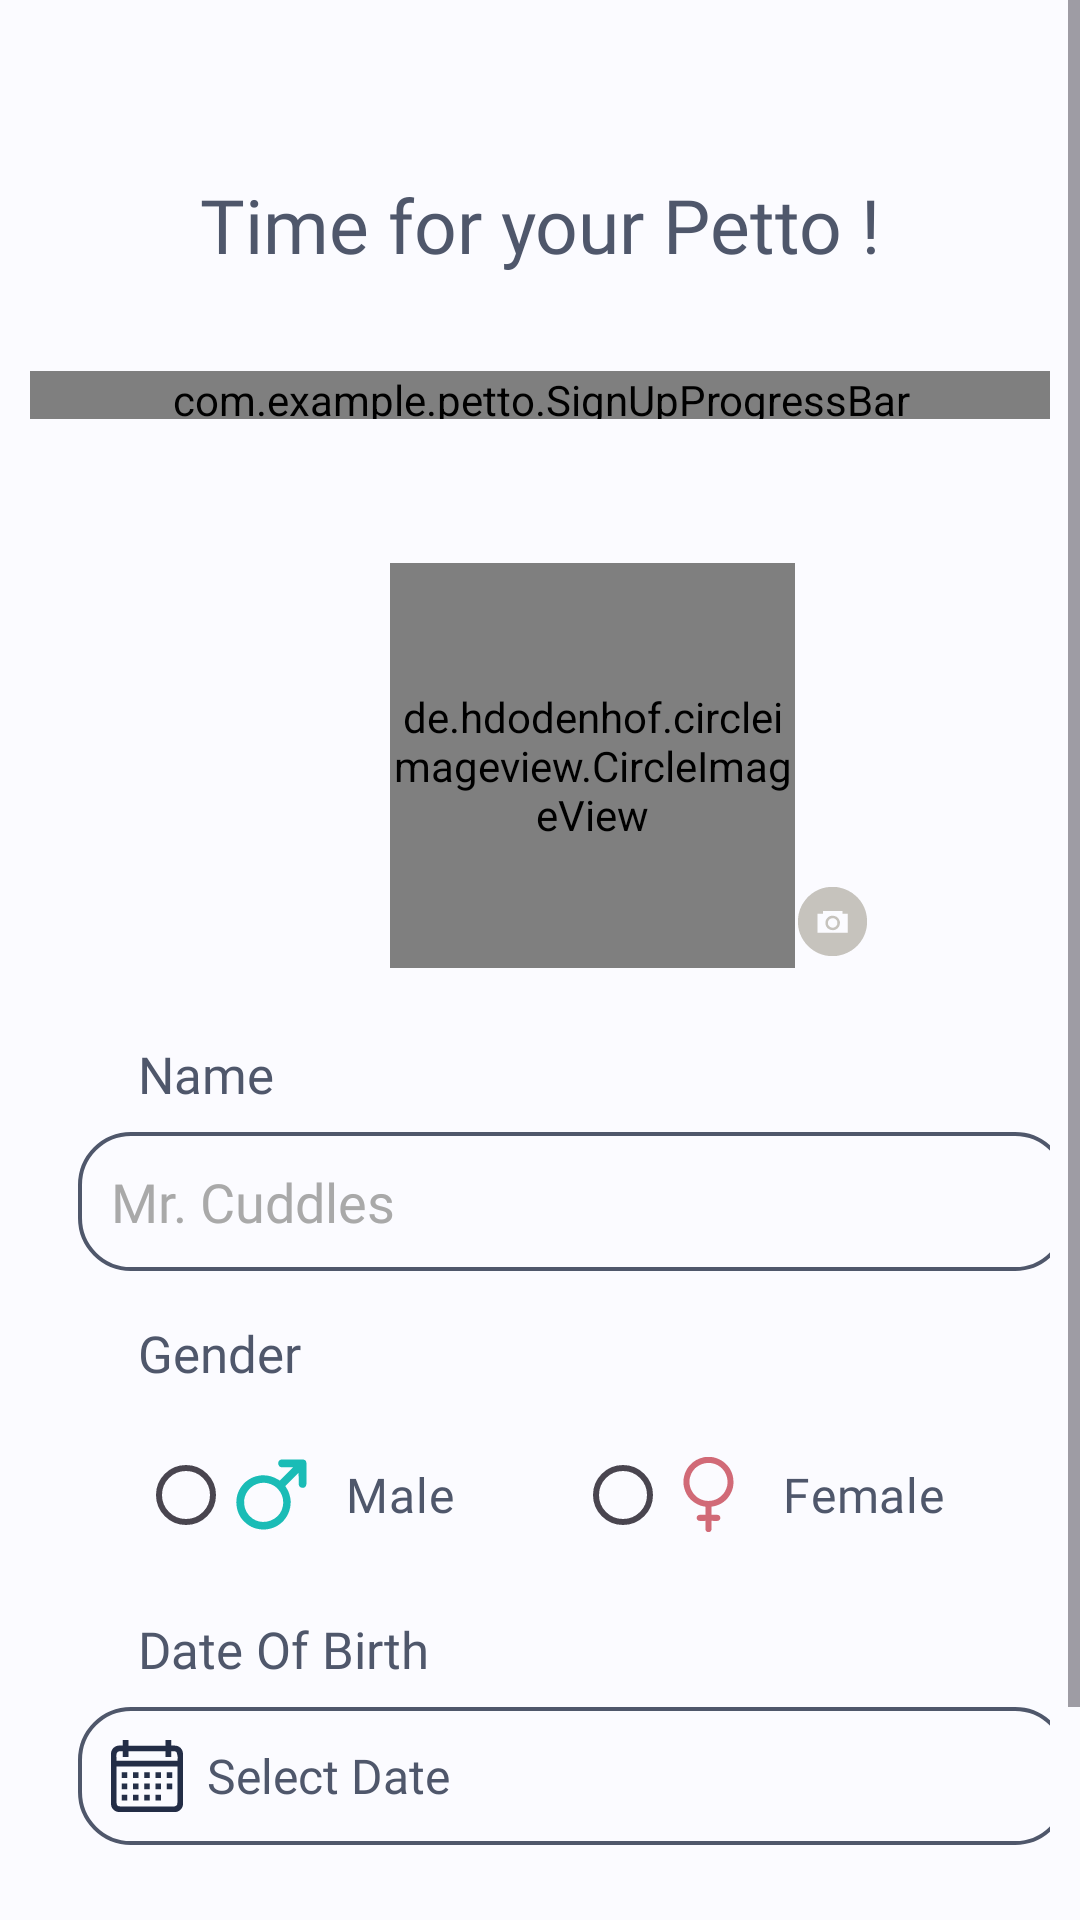

Icon click points for this 1080*1920 phone screenshot, format [x,y]:
calendar: [147,1776]
Import Photo: [832,921]
